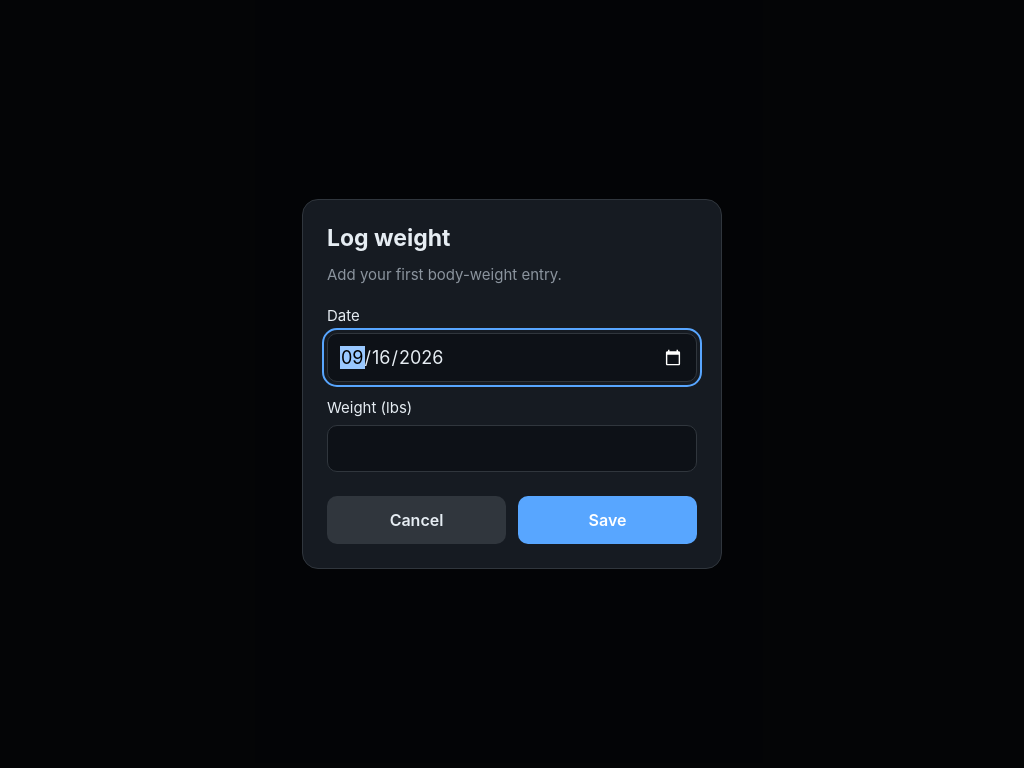
Scenario: entry rejects empty weight and future dates without saving
Click the button "Save" at (608, 520), box [518,496,697,544]
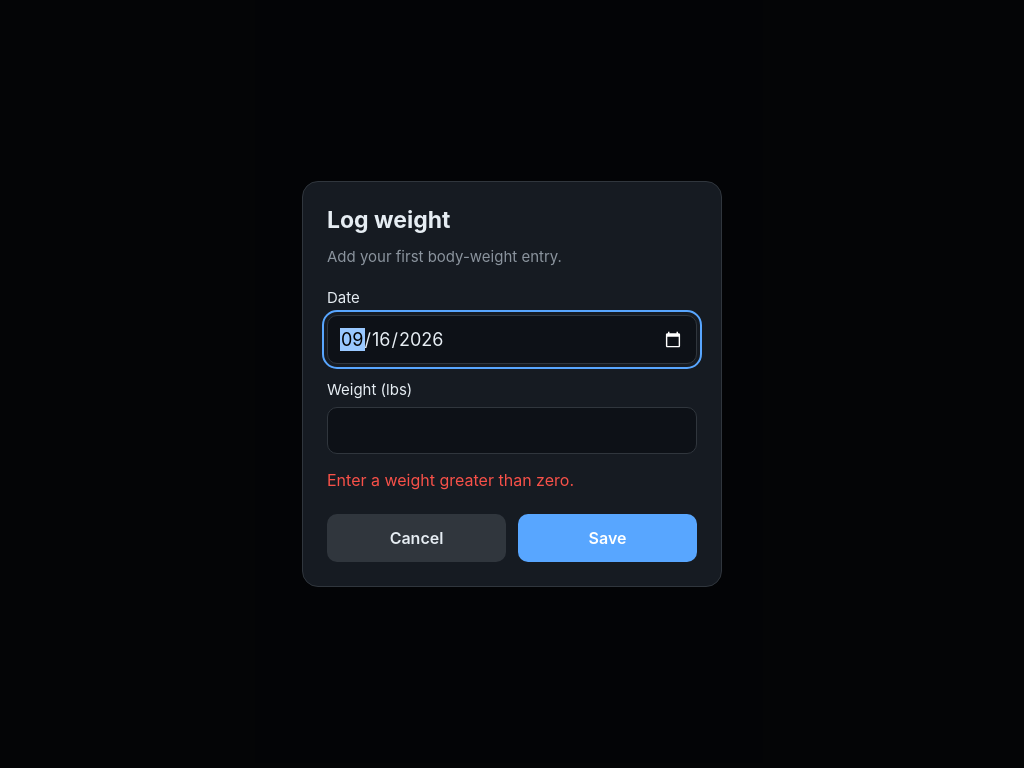
Now the message shows "greater than zero", box [327,470,574,490]
Type "155" into the number field labelled "Weight (lbs)" at (512, 431), box [327,407,697,454]
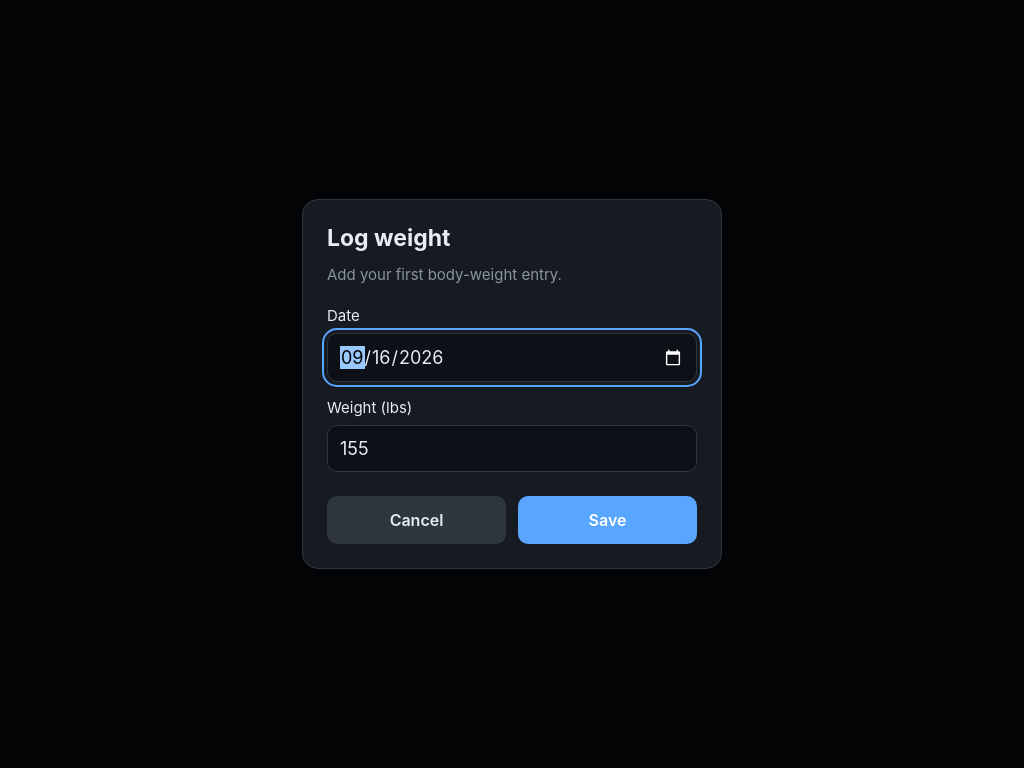
Type "2026-09-17" into the date field labelled "Date" at (512, 358), box [327,333,697,382]
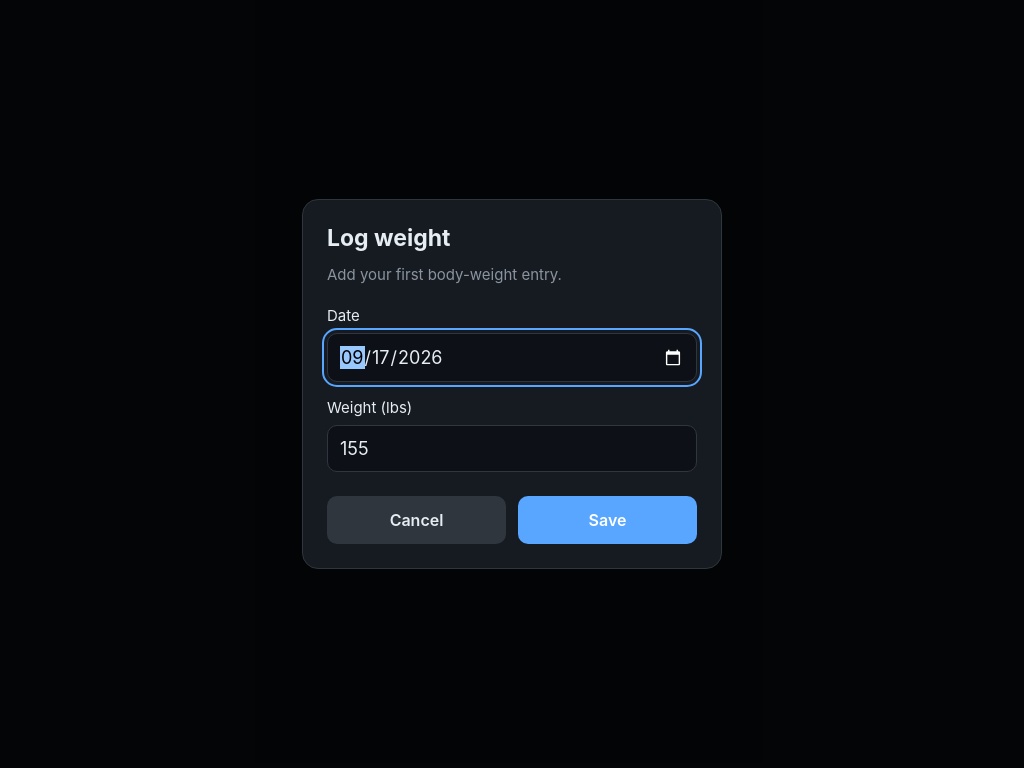
Click the button "Save" at (608, 520), box [518,496,697,544]
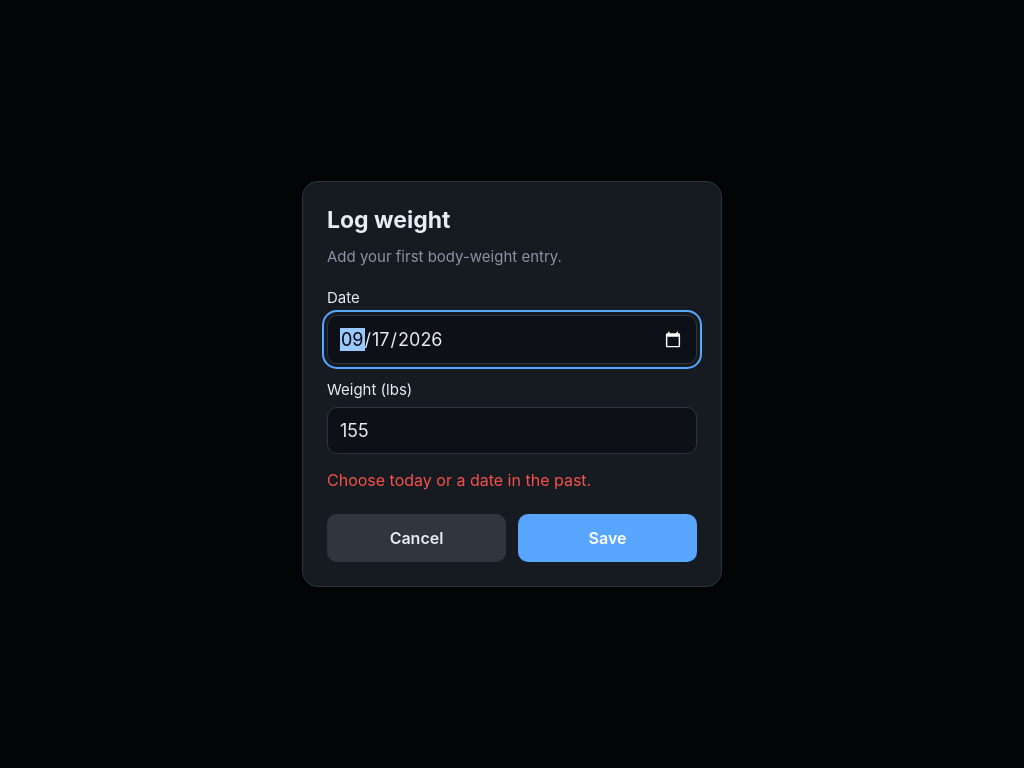
Now the message shows "date in the past", box [327,470,591,490]
